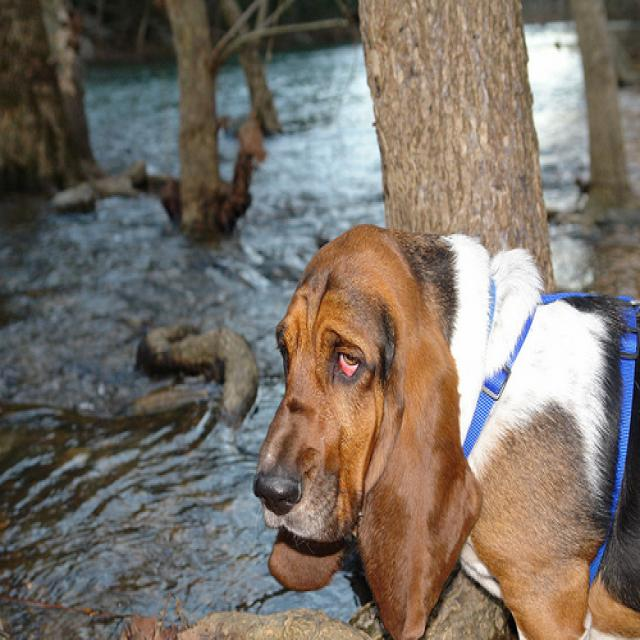dog-basset_hound: (243, 217, 637, 637)
